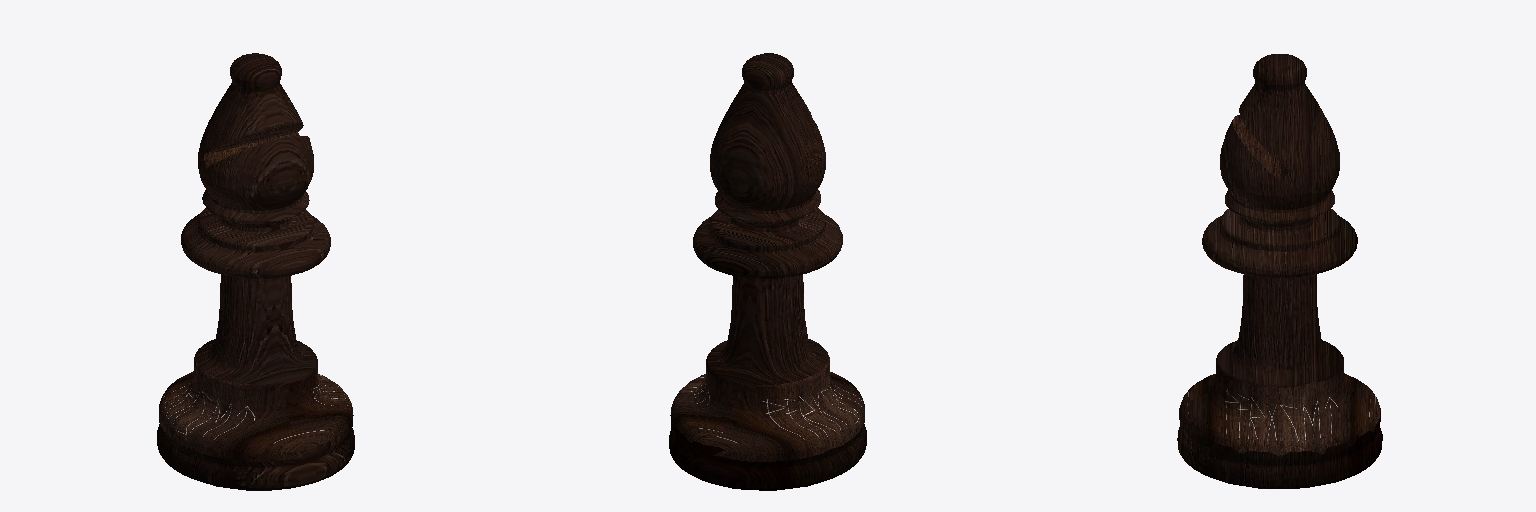
3 renders of one model, left to right at view 1: azimuth 30°, elevation 25°; view 2: azimuth 150°, elevation 25°; view 3: azimuth 270°, elevation 25°, orthographic.
Visible parts, largest first — view 1: Alfil; view 2: Alfil; view 3: Alfil.
Part boxes in pixels (bbox=[...]): Alfil: bbox=[157, 53, 354, 490]; Alfil: bbox=[669, 53, 866, 490]; Alfil: bbox=[1177, 54, 1382, 488].
Bounding box in the file's own units: 0.3682 × 0.8204 × 0.3858.
2 materials, 2 textured.